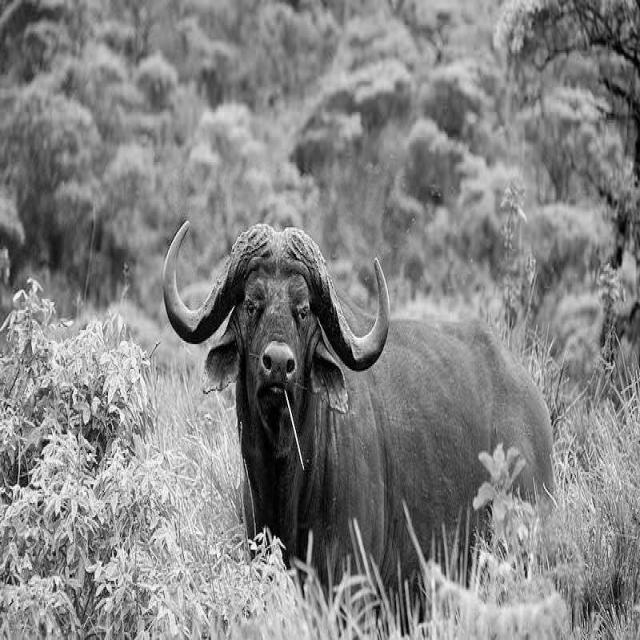Buffalo: (161, 218, 556, 631)
